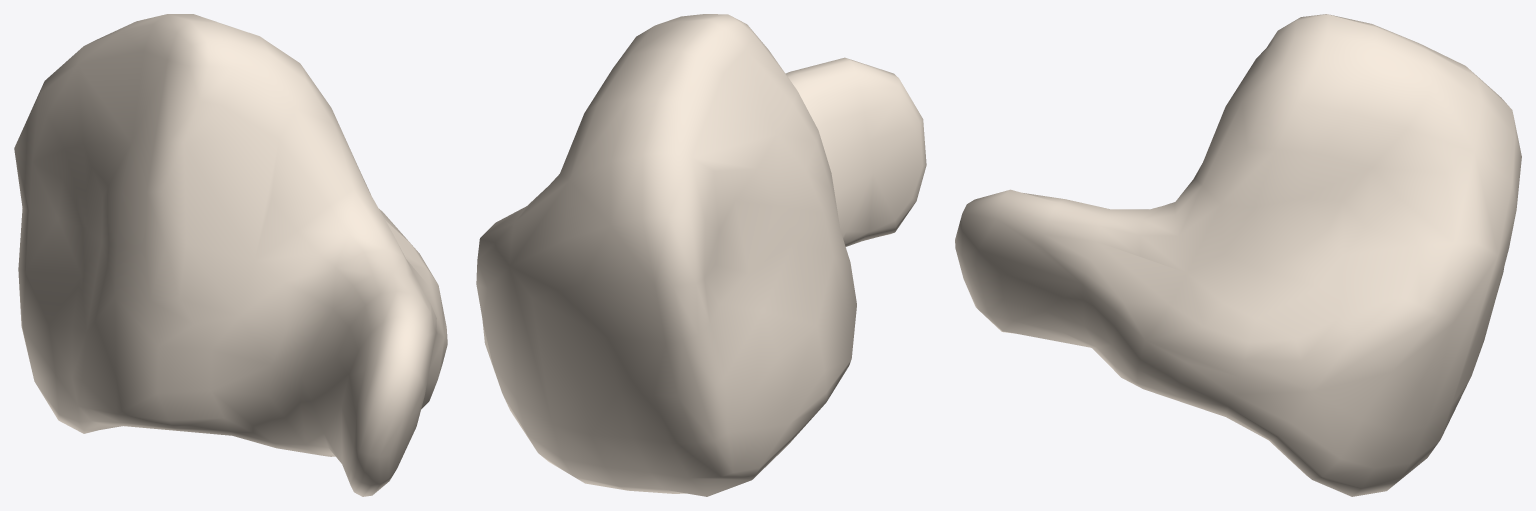
The model's file is right_hamate.glb.
3 renders of one model, left to right at view 1: azimuth 30°, elevation 25°; view 2: azimuth 150°, elevation 25°; view 3: azimuth 270°, elevation 25°, orthographic. The views are drawn at different scales.
Visible parts, largest first — view 1: Hamate.r; view 2: Hamate.r; view 3: Hamate.r.
Part boxes in pixels (box(x1,y1,x2,y2)): Hamate.r: box(14, 14, 447, 496); Hamate.r: box(476, 14, 926, 496); Hamate.r: box(955, 14, 1521, 496).
Size of the model in its own units: 0.0148 by 0.0194 by 0.0238.
